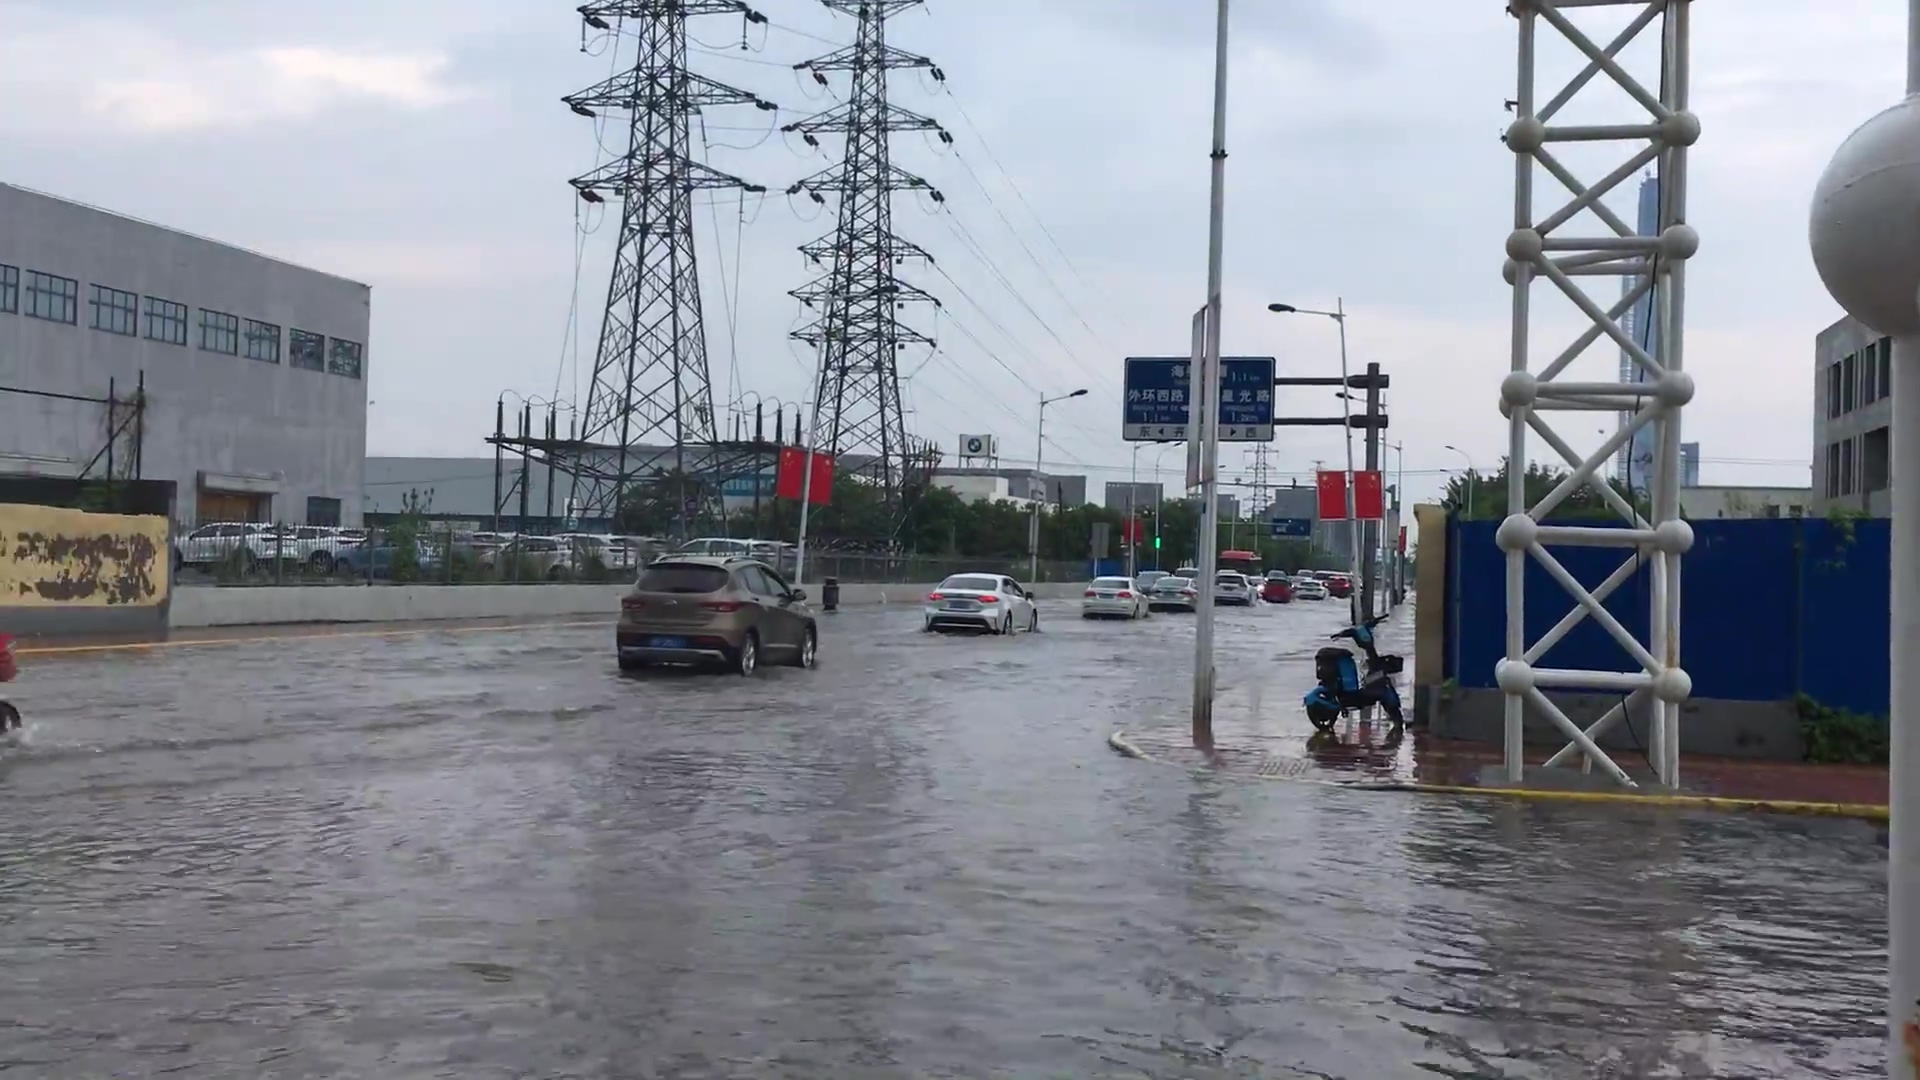puddle: (1, 655, 1920, 1080)
